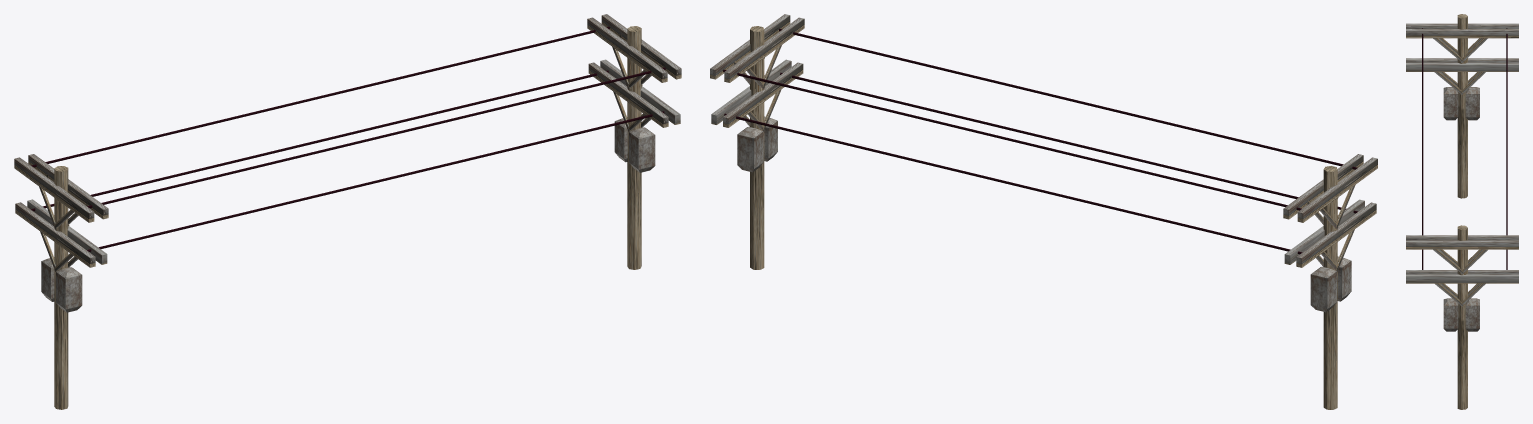
File: Poste.fbx
3 views of the same model, side by side, from view 1: azimuth 30°, elevation 25°; view 2: azimuth 150°, elevation 25°; view 3: azimuth 270°, elevation 25° (orthographic). The views are drawn at different scales.
Visible parts, largest first — view 1: Cylinder, Cylinder.003, Cylinder.001, Cylinder.002; view 2: Cylinder, Cylinder.003, Cylinder.001, Cylinder.002; view 3: Cylinder, Cylinder.003, Cylinder.001.
Boxes of the visible parts, x1,y1,x2,y2 form: Cylinder: (14,154,108,409); Cylinder.003: (587,14,681,269); Cylinder.001: (31,26,665,208); Cylinder.002: (31,70,664,251); Cylinder: (1283,154,1377,409); Cylinder.003: (710,14,804,269); Cylinder.001: (723,28,1357,210); Cylinder.002: (724,72,1357,254); Cylinder: (1406,14,1518,198); Cylinder.003: (1406,225,1518,409); Cylinder.001: (1422,28,1507,235).
Size of the model in its own units: 5389 by 2068 by 1176.
Materials: 4 (3 with a texture image).
